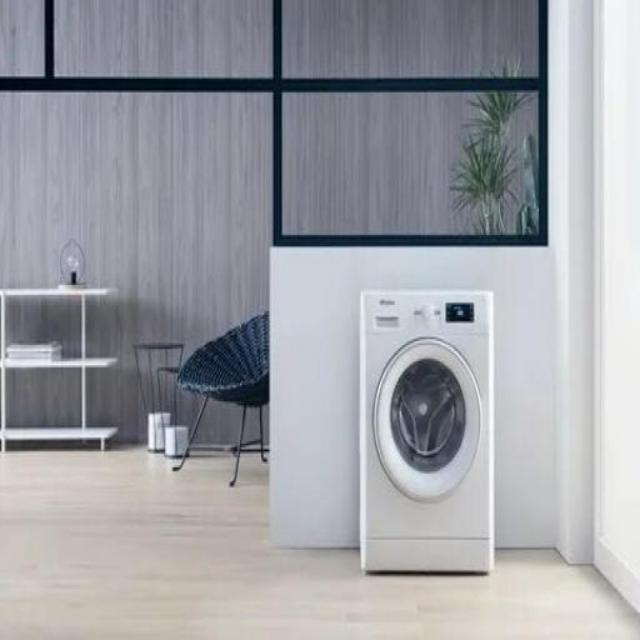Washing-Machine: (360, 292, 496, 574)
